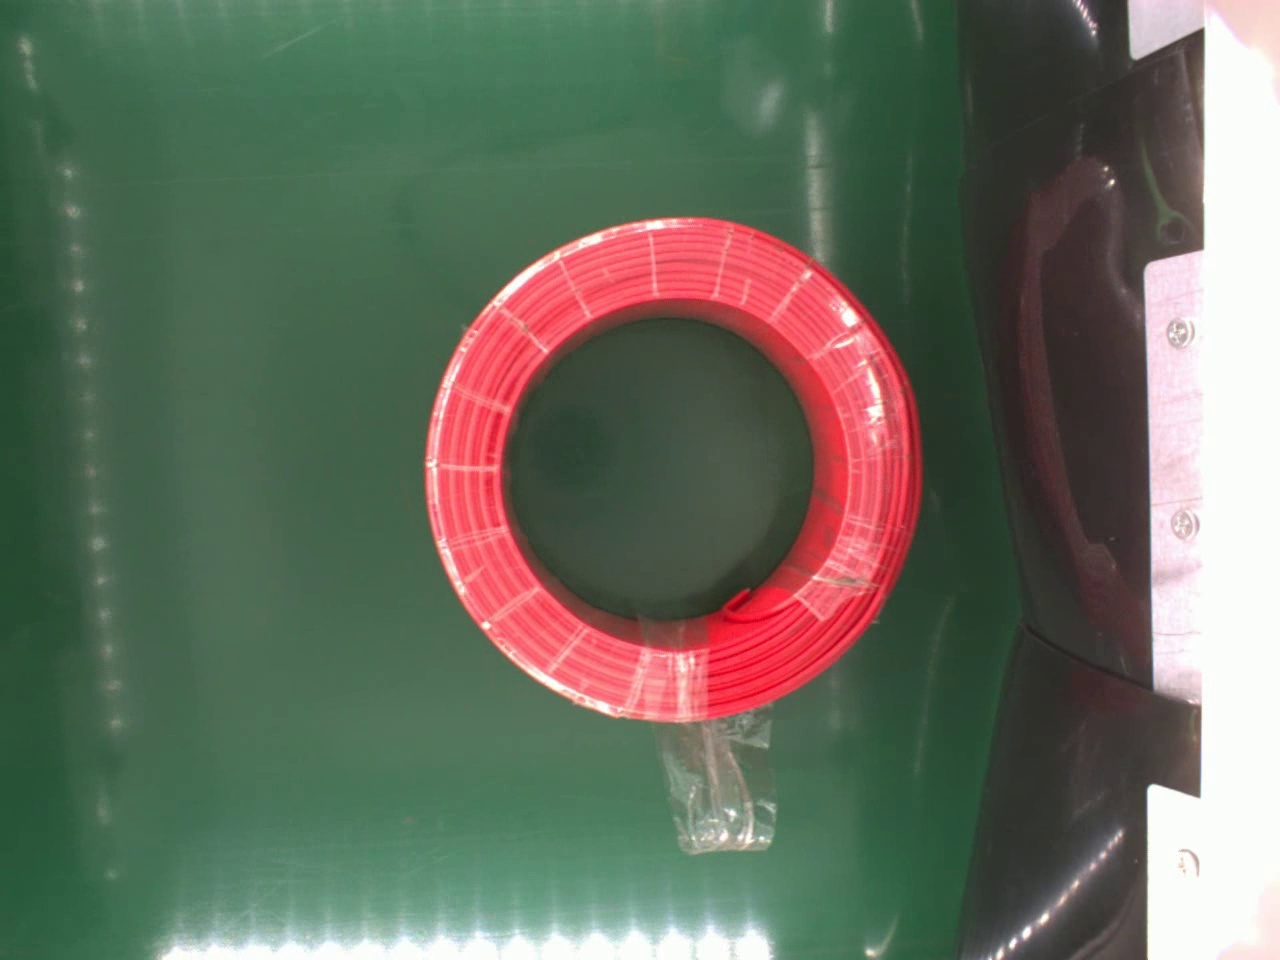red: (420, 215, 924, 726)
